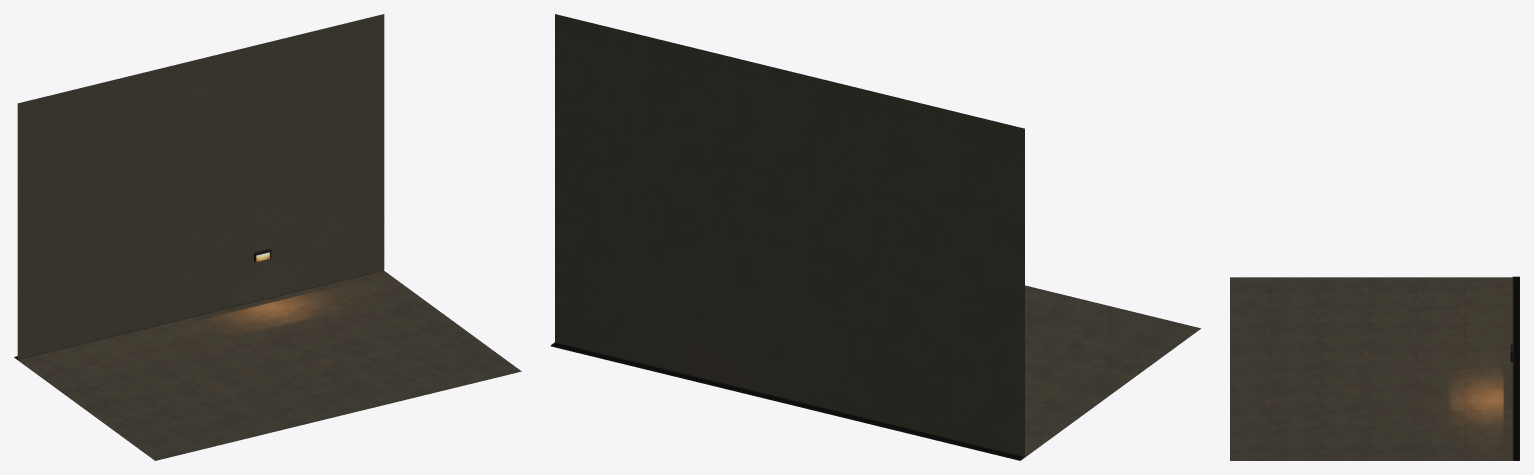
The model's file is Prova_export_6_rettangular_sera.glb.
3 renders of one model, left to right at view 1: azimuth 30°, elevation 25°; view 2: azimuth 150°, elevation 25°; view 3: azimuth 270°, elevation 25°, orthographic. The views are drawn at different scales.
Visible parts, largest first — view 1: Muro, Pavimento; view 2: Muro, Pavimento; view 3: Pavimento, Muro.
Boxes of the visible parts, bbox=[...] form: Muro: bbox=[14, 14, 384, 359]; Pavimento: bbox=[14, 270, 521, 460]; Muro: bbox=[550, 14, 1024, 459]; Pavimento: bbox=[551, 285, 1200, 460]; Pavimento: bbox=[1230, 277, 1519, 460]; Muro: bbox=[1512, 276, 1519, 460].
Bounding box in the file's own units: 5.99 × 4.01 × 4.
4 materials, 4 textured.
